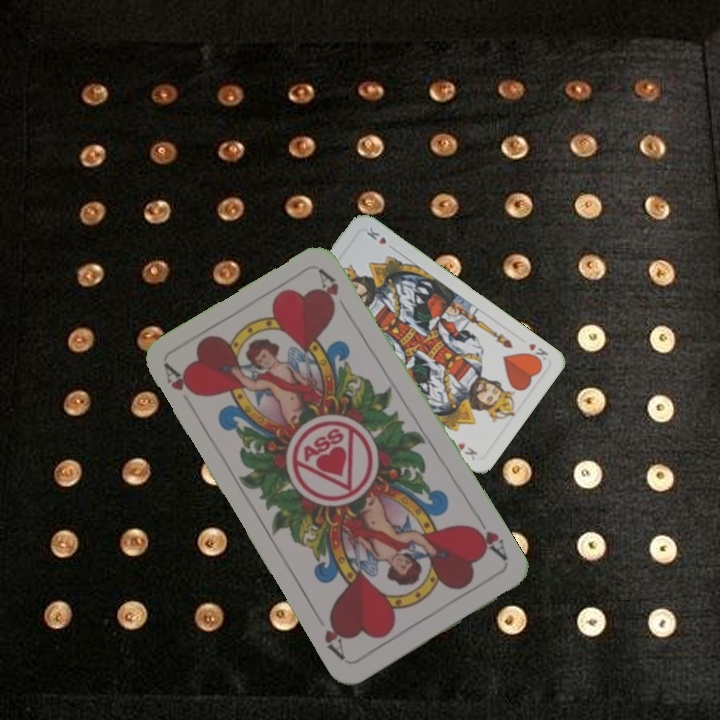HA: (466, 513, 511, 564), (160, 360, 202, 399)
HK: (522, 339, 551, 366)
